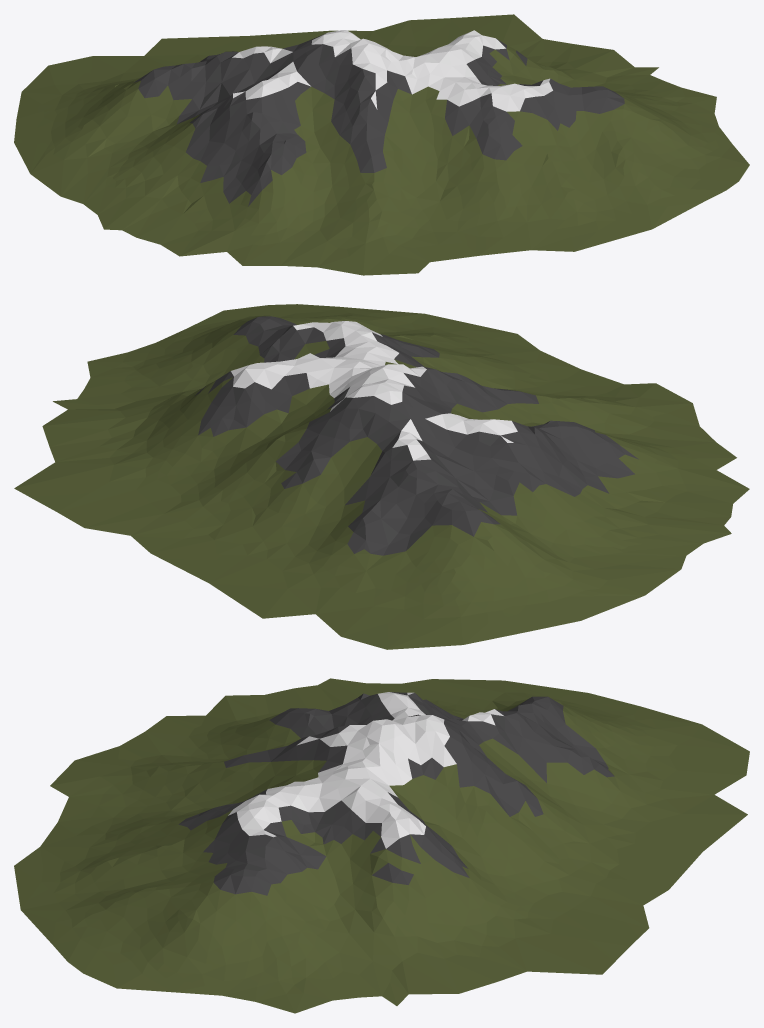
Rendered from SM_background_Mountains_01.gltf.
3 renders of one model, top to bottom at view 1: azimuth 30°, elevation 25°; view 2: azimuth 150°, elevation 25°; view 3: azimuth 270°, elevation 25°, orthographic. The views are drawn at different scales.
Visible parts, largest first — view 1: SM_background_Mountains_01; view 2: SM_background_Mountains_01; view 3: SM_background_Mountains_01.
Boxes of the visible parts, x1,y1,x2,y2 form: SM_background_Mountains_01: [14, 14, 749, 275]; SM_background_Mountains_01: [14, 304, 749, 649]; SM_background_Mountains_01: [14, 678, 749, 1013].
Size of the model in its own units: 1536 by 251 by 1434.
1 material, 1 textured.
